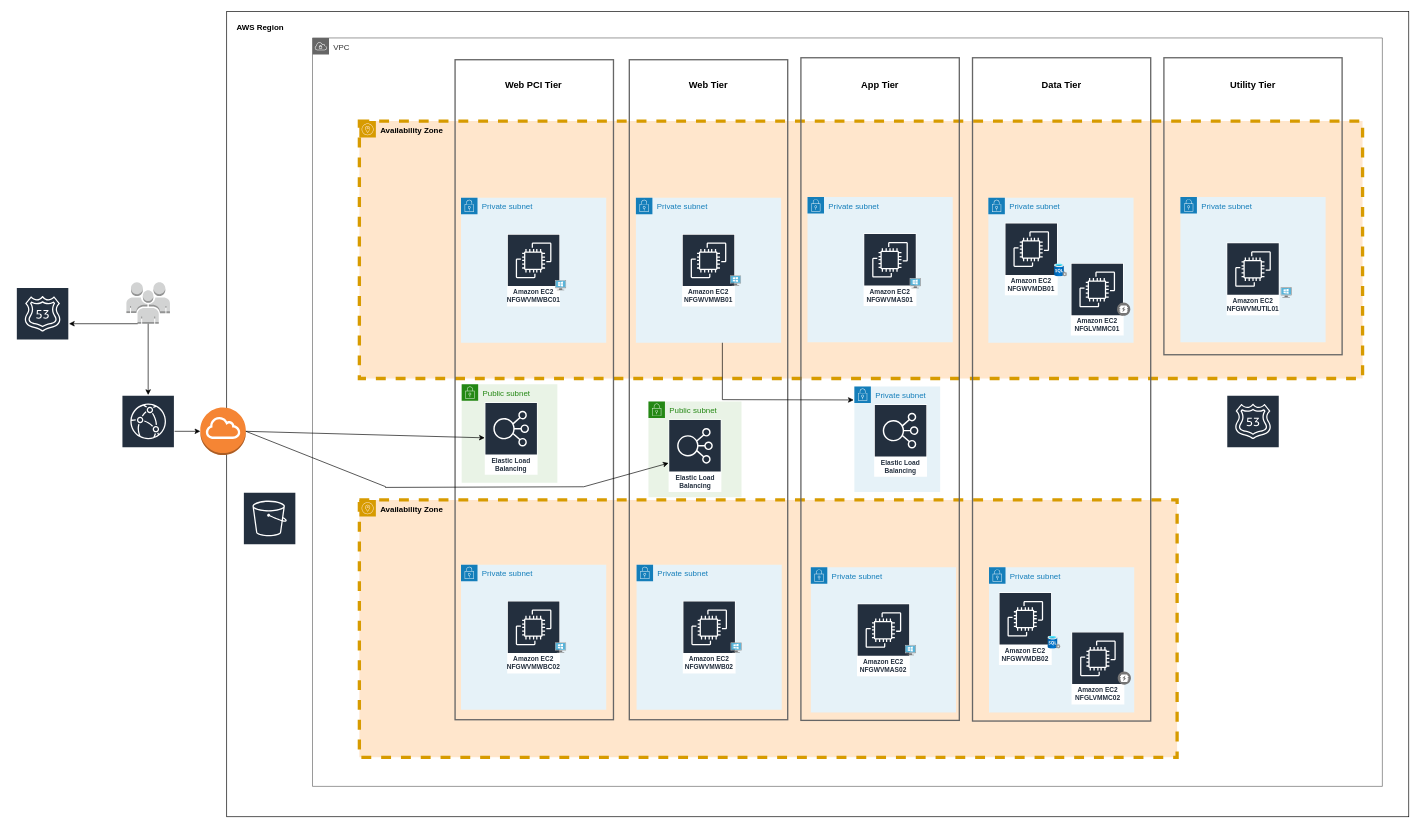
This 1420x828 diagram has some shape labels left out. Each missing label, with the box of its shape:
Amazon Cloudfront: (121, 394, 175, 468)
Amazon Rte 53 networkforgood.org: (16, 287, 69, 360)
Amazon S3 NFGS301: (243, 491, 296, 565)
AWS Route 53 Private DNS: (1226, 394, 1279, 468)
